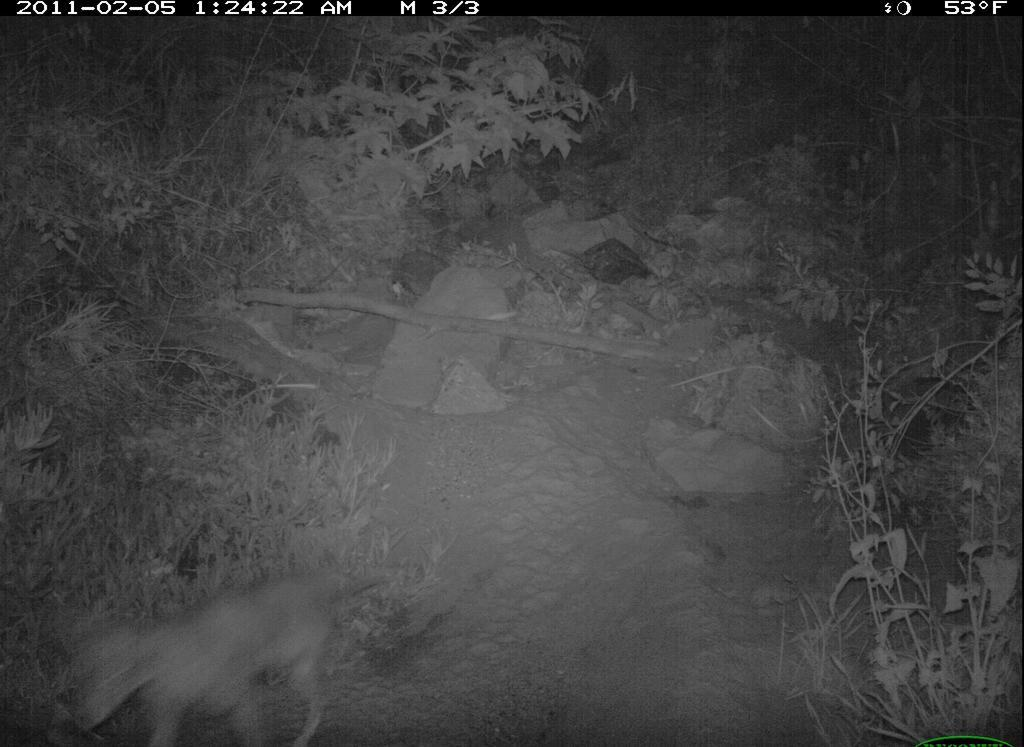coyote: (57, 566, 400, 747)
